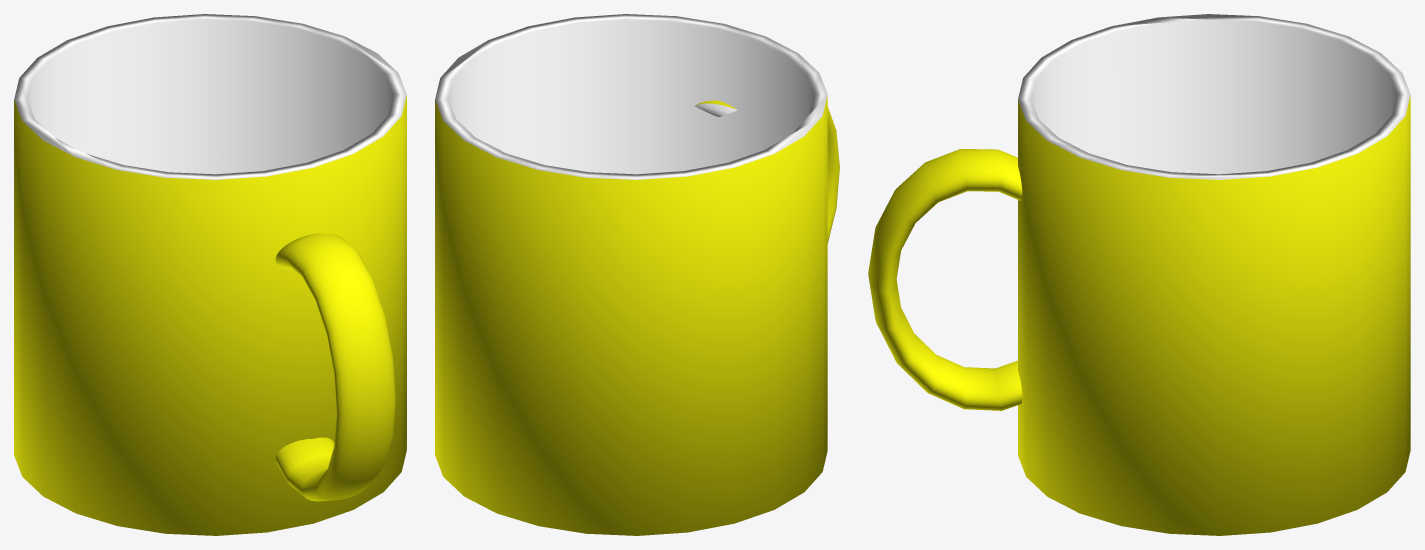
The model's file is Mug1.dae.
3 views of the same model, side by side, from view 1: azimuth 30°, elevation 25°; view 2: azimuth 150°, elevation 25°; view 3: azimuth 270°, elevation 25° (orthographic).
Visible parts, largest first — view 1: skeF; view 2: skeF; view 3: skeF.
Part boxes in pixels (x1=…): skeF: x1=14, y1=14, x2=406, y2=535; skeF: x1=435, y1=14, x2=839, y2=535; skeF: x1=868, y1=14, x2=1410, y2=535.
Bounding box in the file's own units: 195 × 269 × 195.
